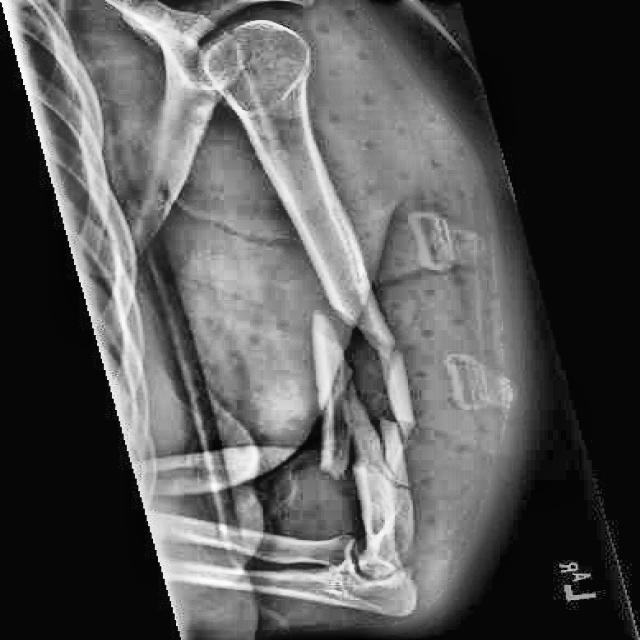humerus: (281, 286, 440, 561)
